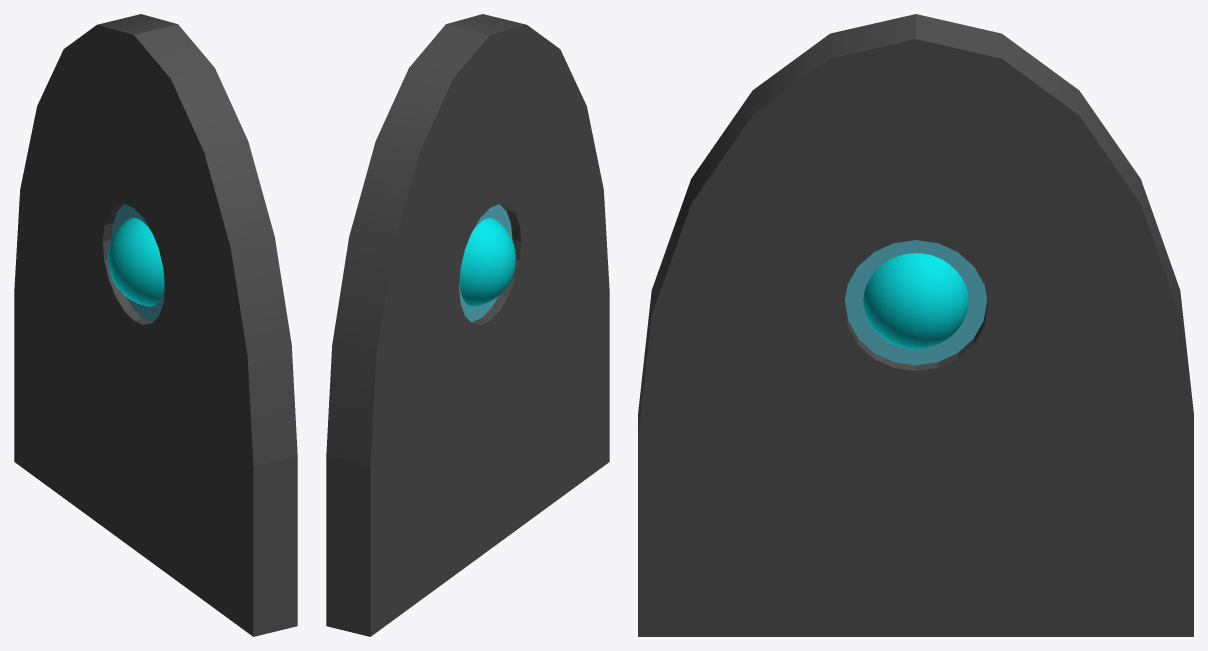
File: BlueDoor1.fbx
The picture shows the model from 3 angles, left to right: view 1: azimuth 30°, elevation 25°; view 2: azimuth 150°, elevation 25°; view 3: azimuth 270°, elevation 25°; orthographic projection. The views are drawn at different scales.
Visible parts, largest first — view 1: DoorL, DoorR, CenterSphere, Centerpiece; view 2: DoorR, DoorL, CenterSphere, Centerpiece; view 3: DoorL, DoorR, CenterSphere, Centerpiece.
Boxes of the visible parts, x1,y1,x2,y2 form: DoorL: [134, 24, 297, 636]; DoorR: [14, 14, 177, 549]; CenterSphere: [108, 218, 164, 306]; Centerpiece: [111, 204, 164, 321]; DoorR: [326, 24, 489, 636]; DoorL: [446, 14, 609, 549]; CenterSphere: [459, 218, 515, 306]; Centerpiece: [459, 204, 512, 321]; DoorL: [638, 14, 915, 636]; DoorR: [916, 14, 1193, 636]; CenterSphere: [863, 253, 968, 348]; Centerpiece: [845, 240, 986, 365].
Bounding box in the file's own units: 2.02 × 11.84 × 9.98.
